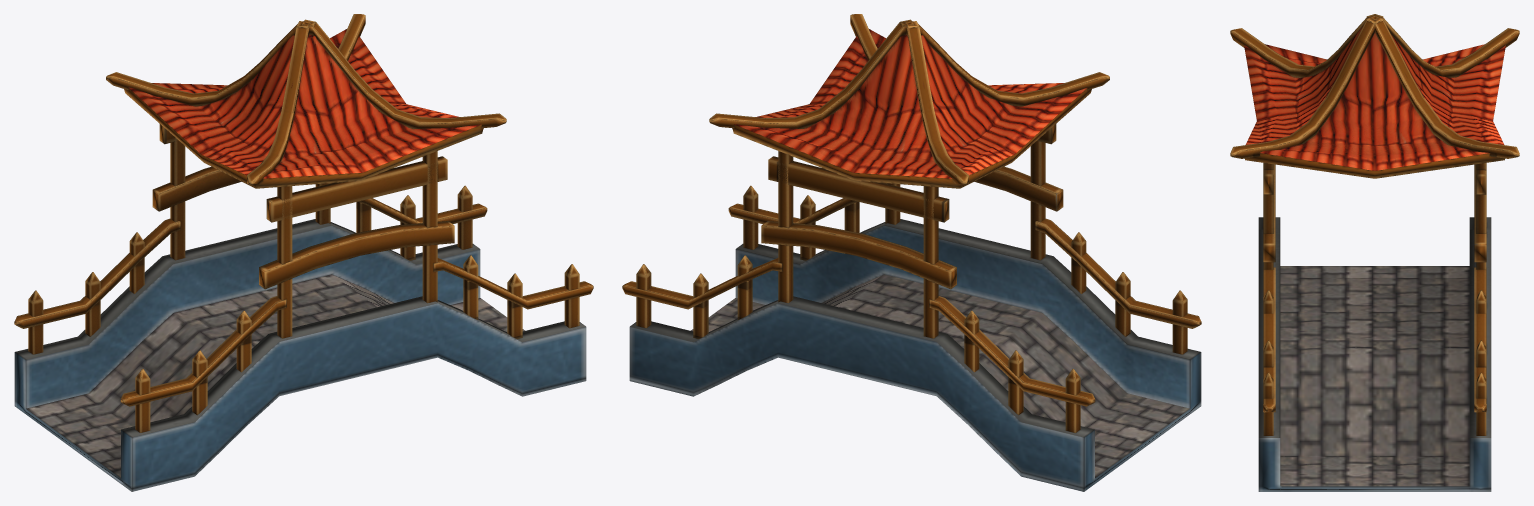
The model's file is Bridge.fbx.
The picture shows the model from 3 angles, left to right: view 1: azimuth 30°, elevation 25°; view 2: azimuth 150°, elevation 25°; view 3: azimuth 270°, elevation 25°; orthographic projection.
Visible parts, largest first — view 1: Bridge; view 2: Bridge; view 3: Bridge.
Part boxes in pixels (left/top/right/bottom): Bridge: left=14, top=14, right=593, bottom=491; Bridge: left=622, top=14, right=1201, bottom=491; Bridge: left=1230, top=14, right=1519, bottom=491.
Bounding box in the file's own units: 50.45 × 37.77 × 27.03.
